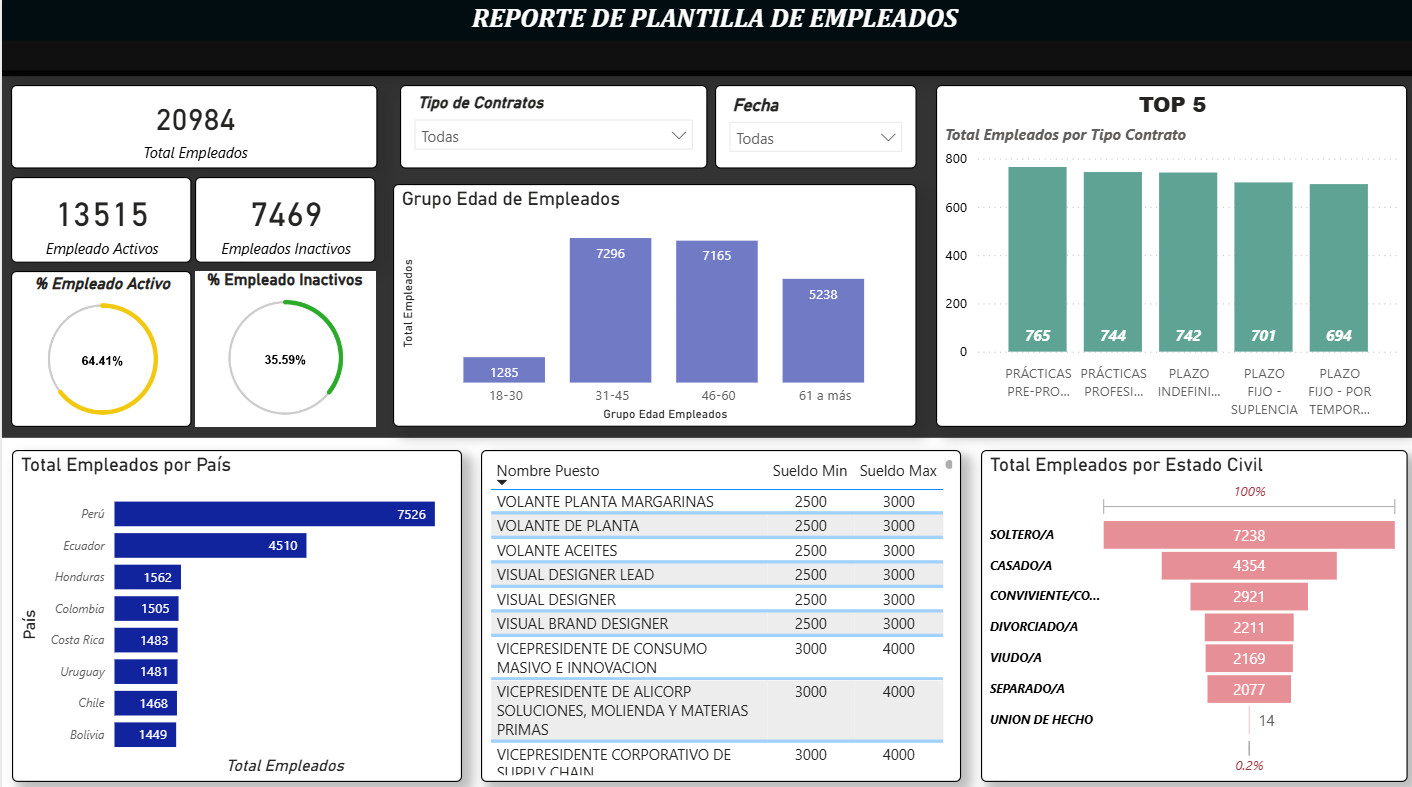

The page's visual inventory and layout, read from the dashboard file:
{"tool":"powerbi","page":{"name":"REPORTE RRHH","canvas":[1280,720],"ordinal":0},"visuals":[{"type":"textbox","box":[0,0,1279.6,72.4],"z":0},{"type":"card","fields":{"Values":["Medidas.Total Empleados"]},"box":[8.4,79.6,329.2,74.8],"z":1000},{"type":"card","fields":{"Values":["Medidas.Empleado Activos"]},"box":[8.4,162.8,161.6,77.2],"z":2000},{"type":"card","fields":{"Values":["Medidas.Empleados Inactivos"]},"box":[173.7,162.8,161.6,77.2],"z":3000},{"type":"barChart","fields":{"Category":["Sociedad.País"],"Y":["Medidas.Total Empleados"]},"box":[8.8,407.5,403.8,297.5],"z":5000},{"type":"slicer","fields":{"Values":["Contrato.Descripción_Tipo_Contrato"]},"box":[357,79.6,276.2,74.8],"z":6000},{"type":"clusteredColumnChart","title":"TOP 5","fields":{"Category":["Contrato.Descripción_Tipo_Contrato"],"Y":["Medidas.Total Empleados"]},"box":[838.4,79.6,422.6,307.4],"z":7000},{"type":"clusteredColumnChart","title":"Grupo Edad de Empleados","fields":{"Category":["Empleados.Grupo Edad Empleados"],"Y":["Medidas.Total Empleados"]},"box":[351,168.8,470.4,218.3],"z":8000},{"type":"slicer","fields":{"Values":["Rotacion.Fecha_Ingreso.Variación.Jerarquía de fechas.Año"]},"box":[640,80,181.2,75],"z":9000},{"type":"payPalKPIDonutChart55A431AB15A540ED924ACD72ED8D259F","title":"% Empleado Activo","fields":{"myvalue":["Medidas.% Empleado_Activos"]},"box":[8.4,247.2,161.6,139.9],"z":10000},{"type":"payPalKPIDonutChart55A431AB15A540ED924ACD72ED8D259F","title":"% Empleado Inactivos","fields":{"myvalue":["Medidas.% Empleado_Baja"]},"box":[173.7,247.2,161.6,139.9],"z":11000},{"type":"tableEx","fields":{"Values":["Puesto.Nombre_Puesto","Puesto.Sueldo_Mínimo","Puesto.Sueldo_Máximo"]},"box":[430,407.5,431.2,297.5],"z":12000},{"type":"funnel","title":"Total Empleados por Estado Civil","fields":{"Y":["Medidas.Total Empleados"],"Category":["Empleados.Estado_Civil"]},"box":[878.8,407.5,382.5,297.5],"z":13000}]}

Visuals, with their boxes in screenshot pixels (x1, y1, x2, y2), scaled from the page's 1280x720 canvas onto the 1412x787 screenshot:
textbox: (left=0, top=0, right=1411, bottom=79)
card - Medidas.Total Empleados: (left=9, top=87, right=372, bottom=169)
card - Medidas.Empleado Activos: (left=9, top=178, right=188, bottom=262)
card - Medidas.Empleados Inactivos: (left=192, top=178, right=370, bottom=262)
barChart - Sociedad.País x Medidas.Total Empleados: (left=10, top=445, right=455, bottom=771)
slicer - Contrato.Descripción_Tipo_Contrato: (left=394, top=87, right=698, bottom=169)
"TOP 5" clusteredColumnChart: (left=925, top=87, right=1391, bottom=423)
"Grupo Edad de Empleados" clusteredColumnChart: (left=387, top=185, right=906, bottom=423)
slicer - Rotacion.Fecha_Ingreso.Variación.Jerarquía de fechas.Año: (left=706, top=87, right=906, bottom=169)
"% Empleado Activo" payPalKPIDonutChart55A431AB15A540ED924ACD72ED8D259F: (left=9, top=270, right=188, bottom=423)
"% Empleado Inactivos" payPalKPIDonutChart55A431AB15A540ED924ACD72ED8D259F: (left=192, top=270, right=370, bottom=423)
tableEx - Puesto.Nombre_Puesto x Puesto.Sueldo_Mínimo: (left=474, top=445, right=950, bottom=771)
"Total Empleados por Estado Civil" funnel: (left=969, top=445, right=1391, bottom=771)
